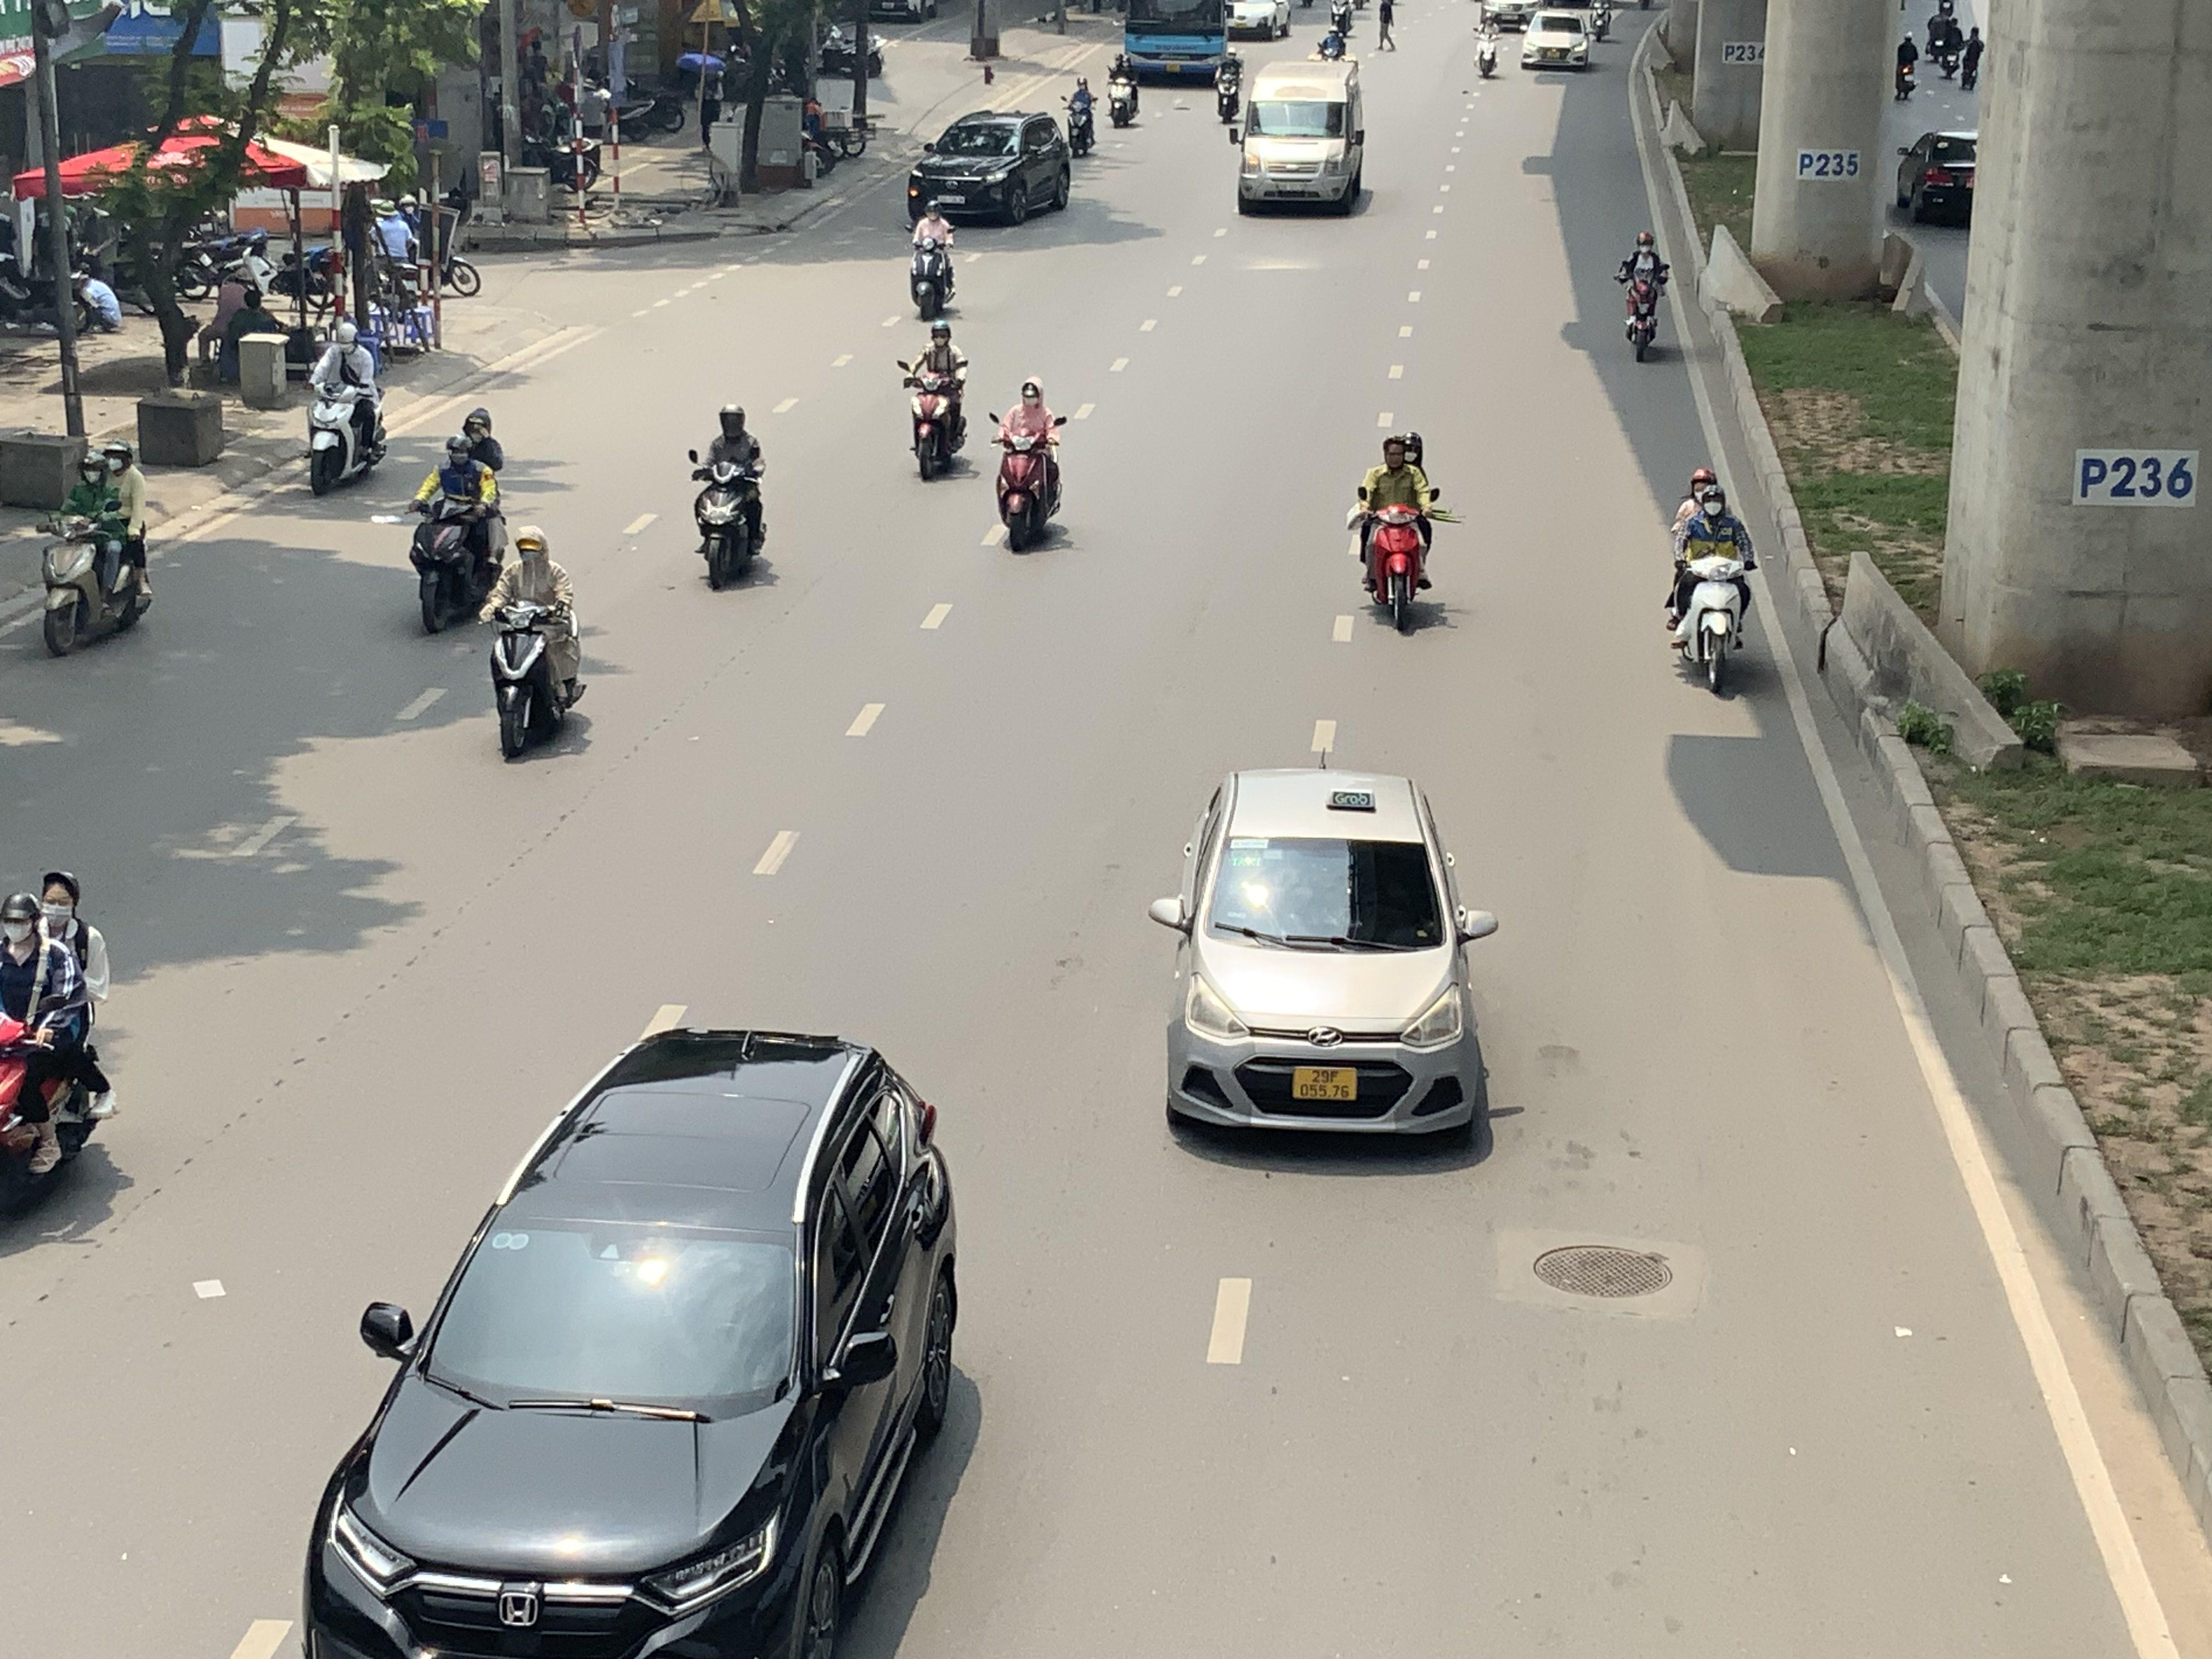BSV: (1292, 1066, 1359, 1101)
bus: (1233, 59, 1369, 218)
car: (298, 1011, 967, 1659), (1146, 765, 1500, 1154), (906, 110, 1073, 227), (1898, 127, 1977, 227), (1519, 9, 1594, 70)
motorbike: (0, 871, 115, 1234), (484, 525, 587, 763), (38, 444, 153, 657), (408, 425, 510, 636), (1665, 469, 1756, 697), (1352, 430, 1440, 634), (690, 403, 772, 591), (303, 321, 388, 497), (991, 375, 1068, 554), (902, 321, 970, 483), (1616, 228, 1670, 362), (907, 197, 958, 322), (1061, 77, 1099, 160), (1106, 51, 1143, 127), (1214, 47, 1245, 124), (1472, 5, 1501, 78), (1893, 30, 1923, 101), (1313, 16, 1352, 61)
